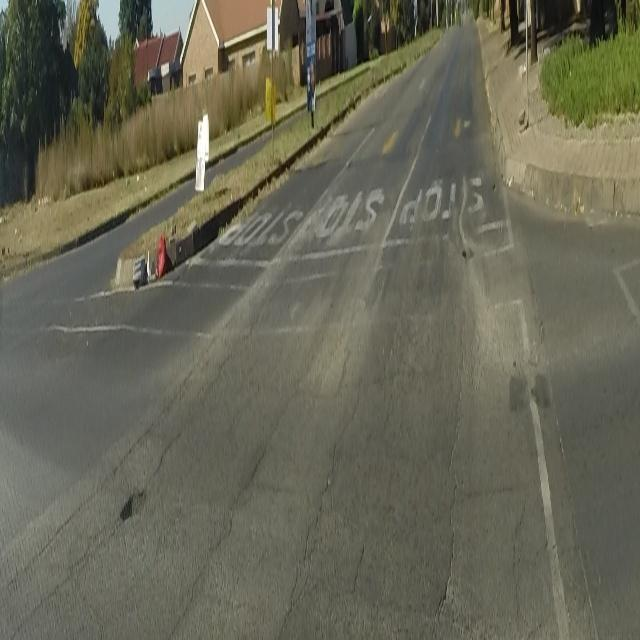pothole: (113, 487, 149, 529)
